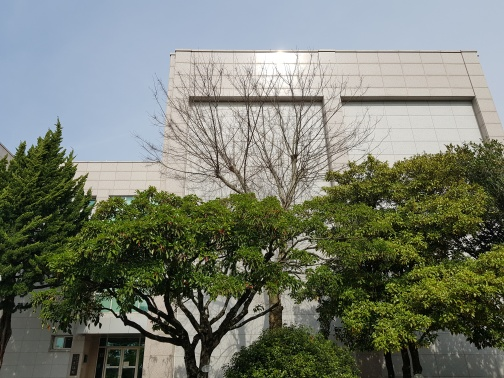College of Nursing: (48, 49, 492, 371)
